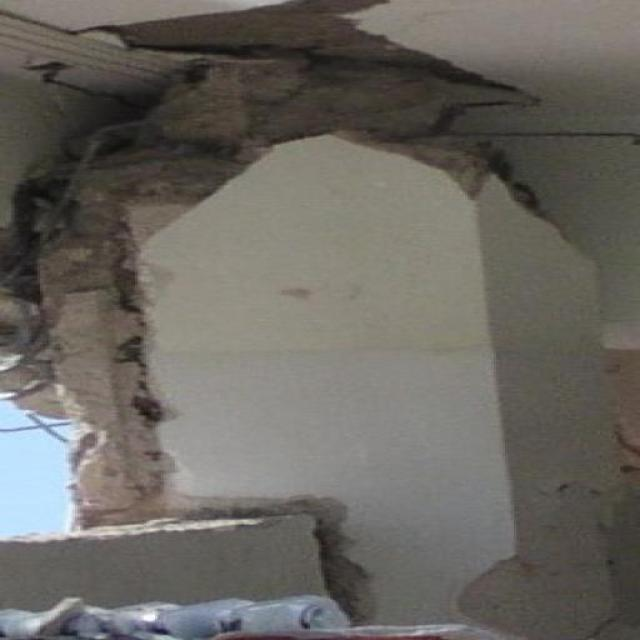D0w0: (2, 0, 535, 526)
